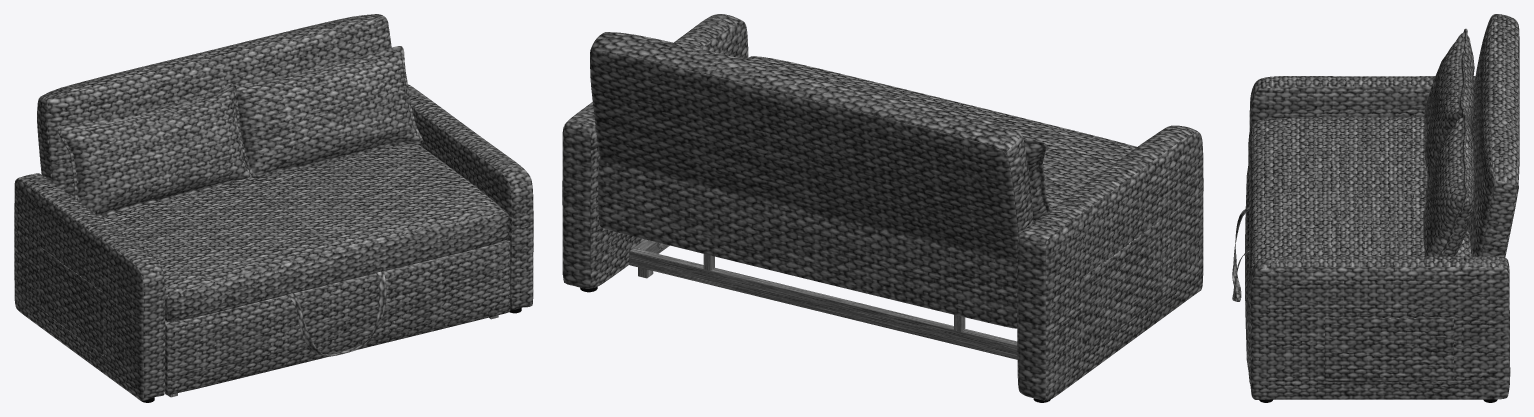
Rendered from modern-convertible-sofa-with-pullout-bed.obj.
3 views of the same model, side by side, from view 1: azimuth 30°, elevation 25°; view 2: azimuth 150°, elevation 25°; view 3: azimuth 270°, elevation 25° (orthographic). The views are drawn at different scales.
Parts seen in each view (by area): view 1: Body; view 2: Body, Iron_parts; view 3: Body.
Boxes of the visible parts, left/top/right/bottom form: Body: left=14, top=14, right=533, bottom=400; Body: left=562, top=14, right=1203, bottom=400; Iron_parts: left=629, top=239, right=1017, bottom=359; Body: left=1232, top=14, right=1519, bottom=399.
Size of the model in its own units: 1.49 by 0.7793 by 0.9251.
3 materials, 2 textured.
